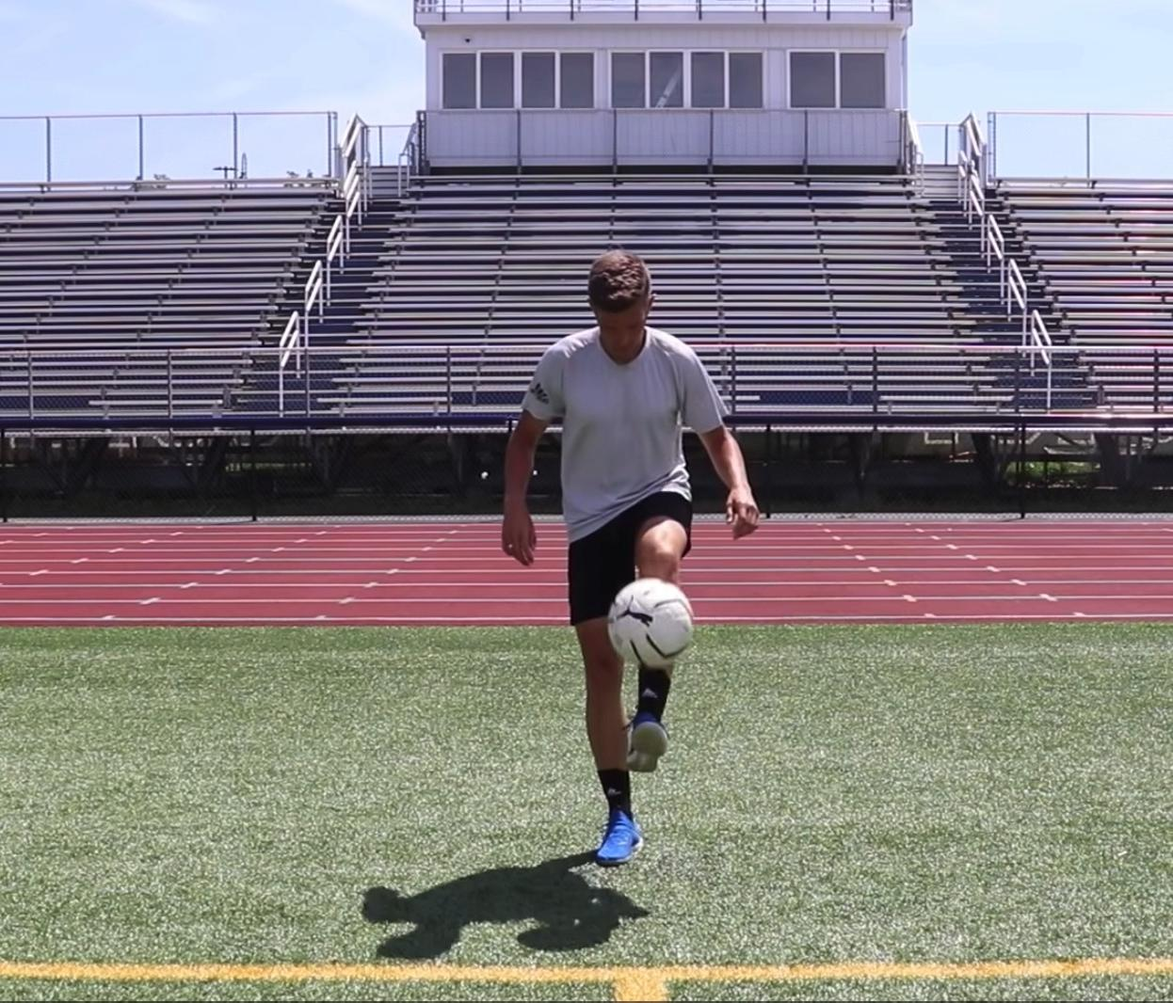ball: (606, 576, 698, 668)
foot: (596, 808, 640, 866), (627, 714, 667, 773)
person: (500, 250, 758, 866)
